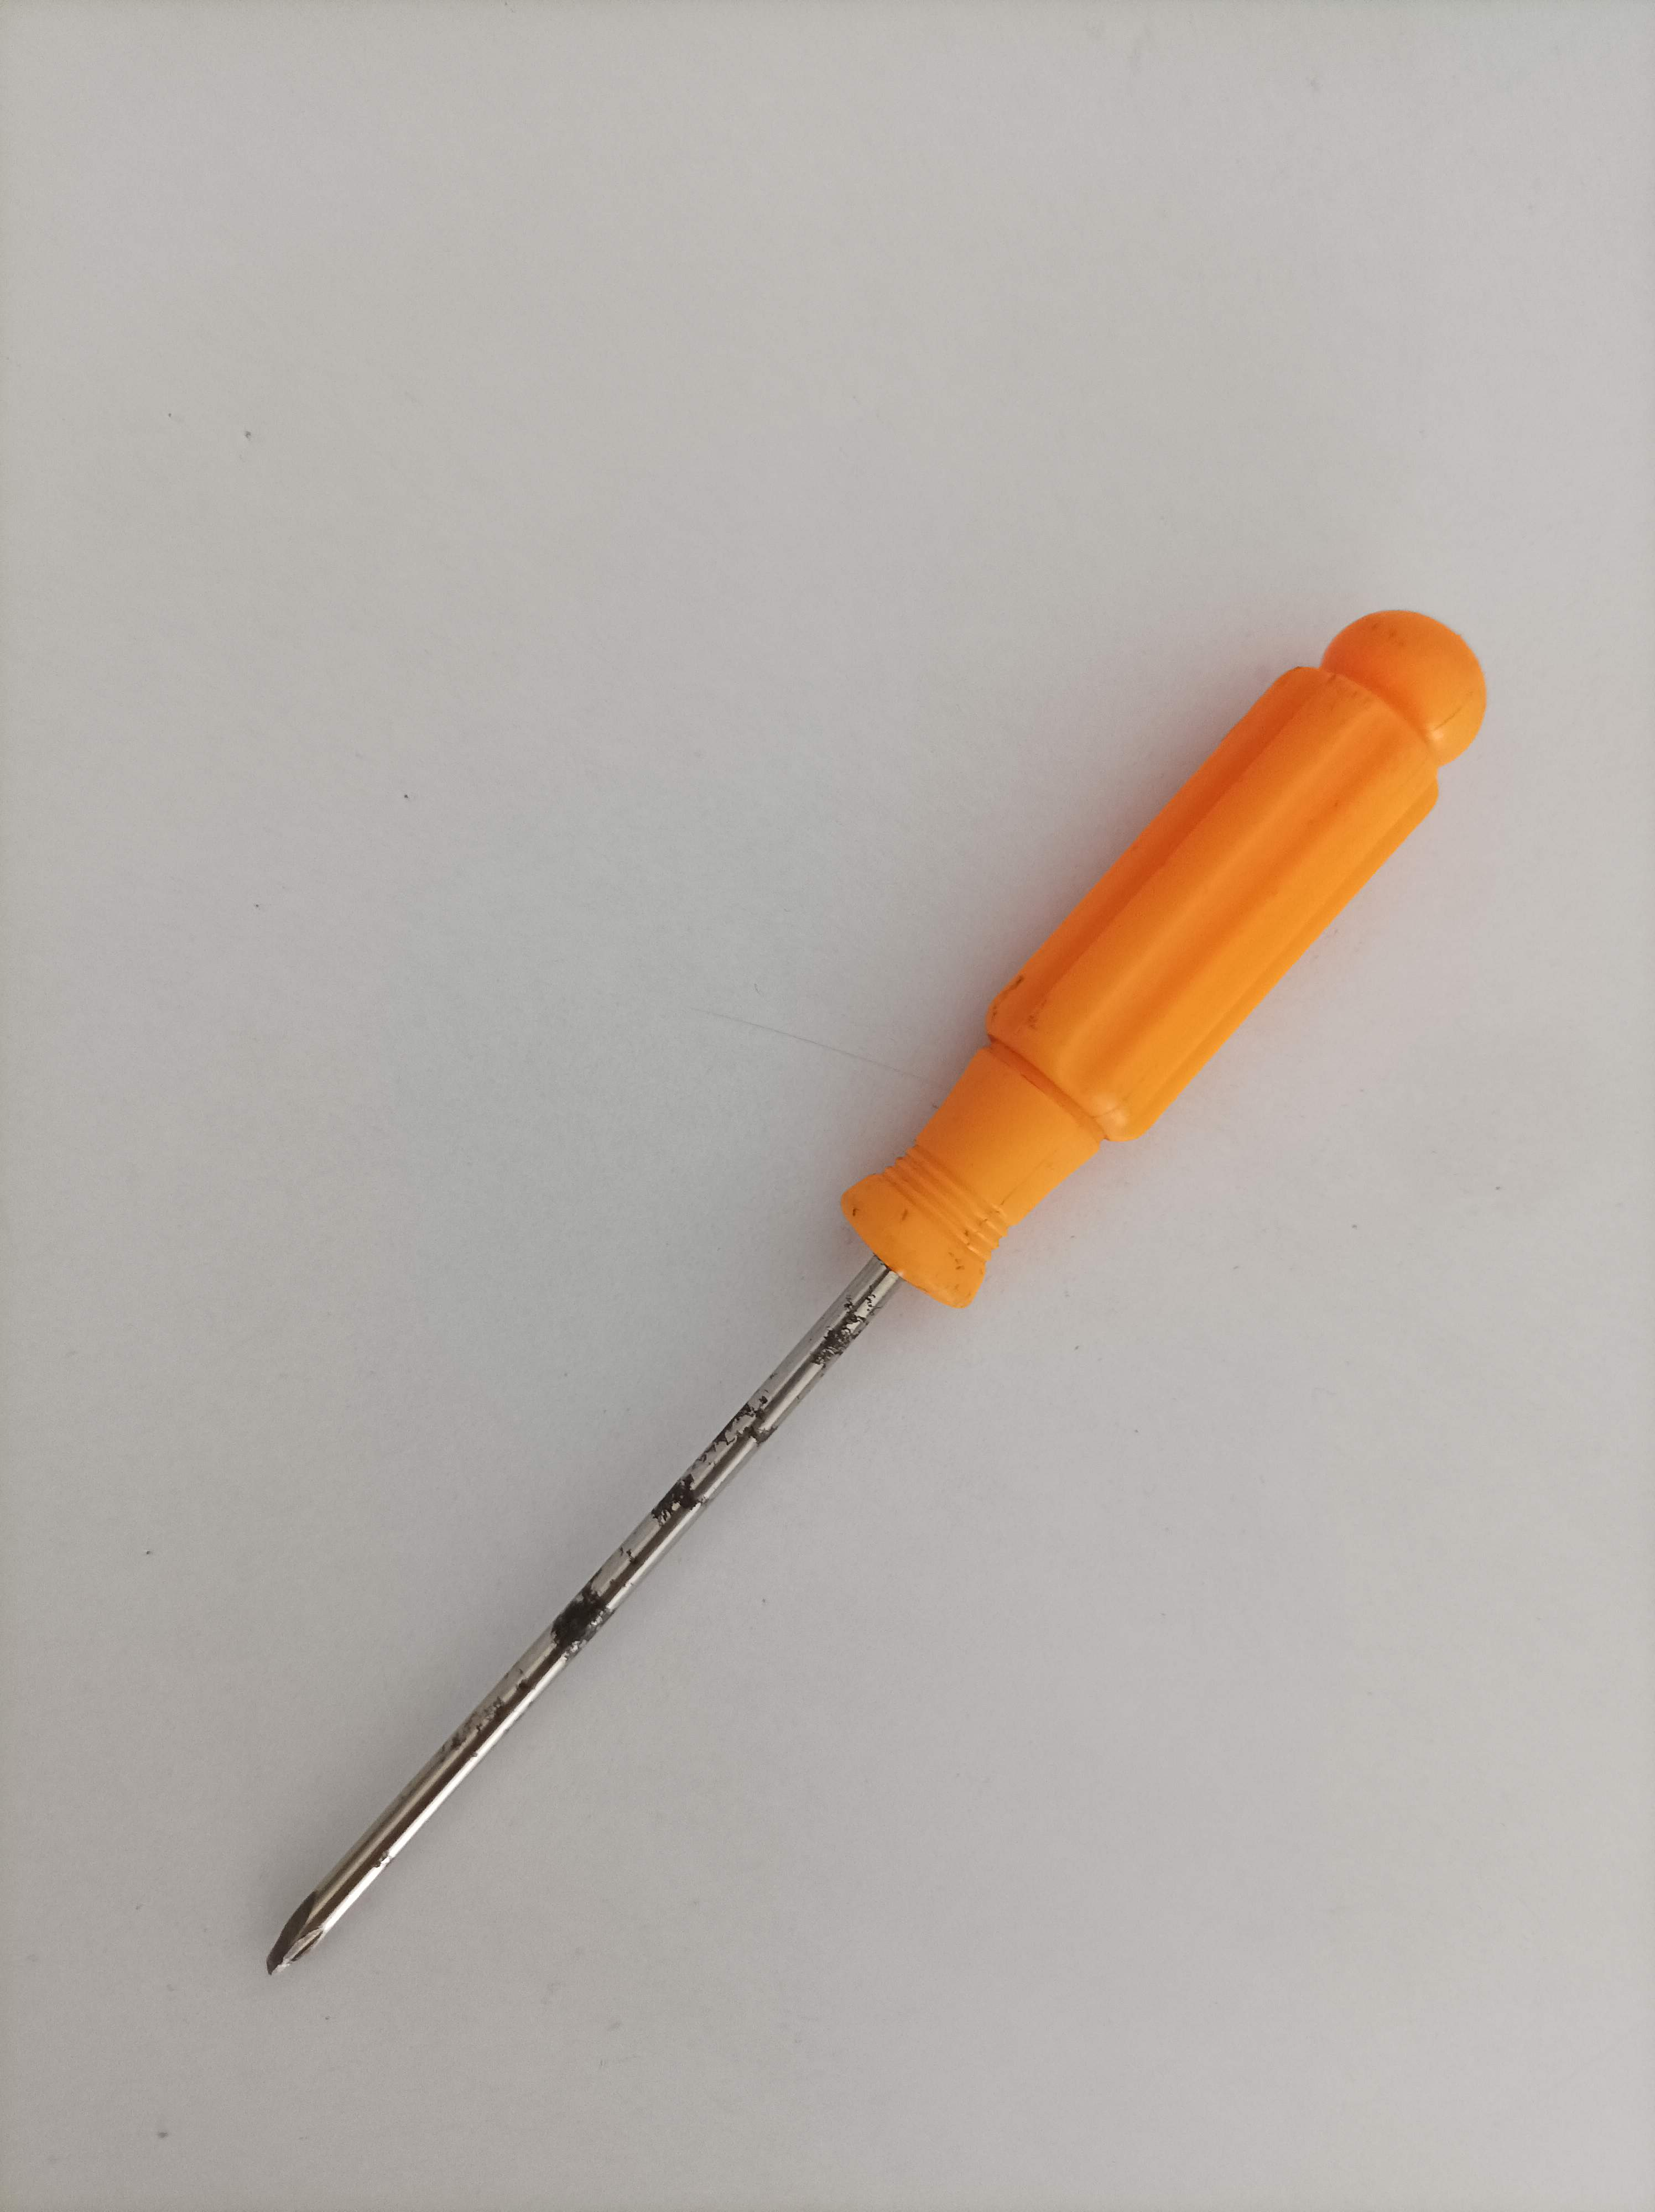screwdriver: (256, 596, 1492, 1986)
